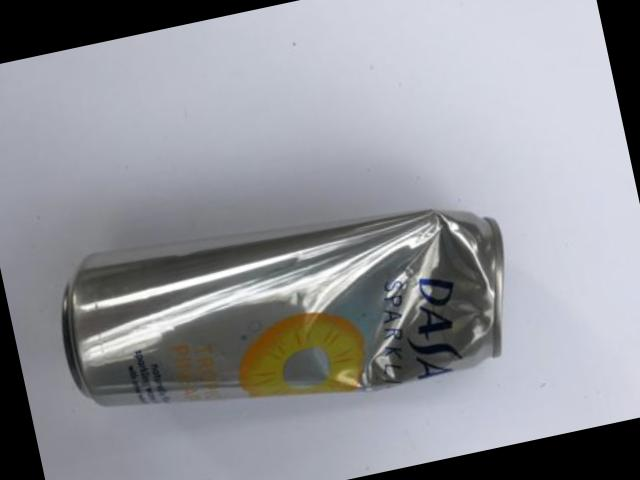metal: (63, 212, 504, 407)
